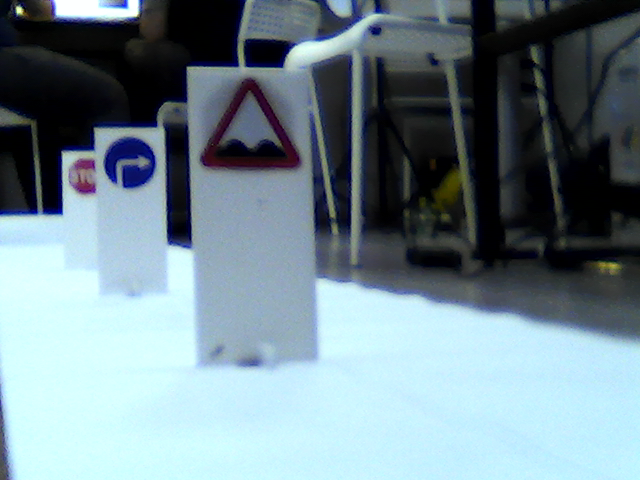Nerov: (201, 78, 300, 172)
Right: (104, 133, 157, 188)
Stop: (67, 159, 99, 192)
